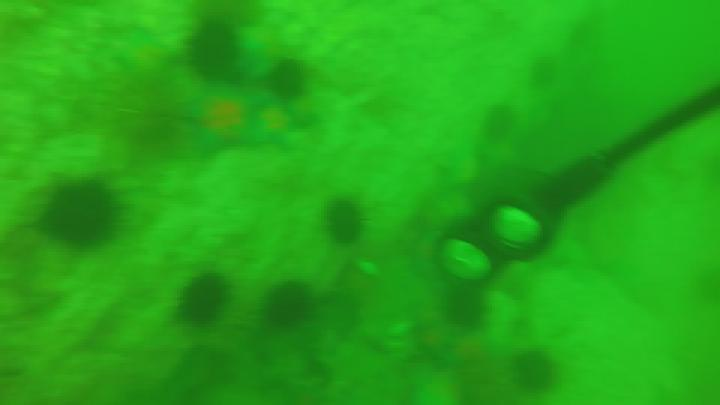echinus: (32, 173, 119, 246), (177, 274, 237, 330), (189, 20, 240, 80), (266, 284, 320, 327), (510, 355, 554, 395), (481, 102, 517, 149), (331, 199, 365, 245), (270, 61, 303, 102), (533, 54, 561, 88)
starfish: (185, 85, 295, 159)
